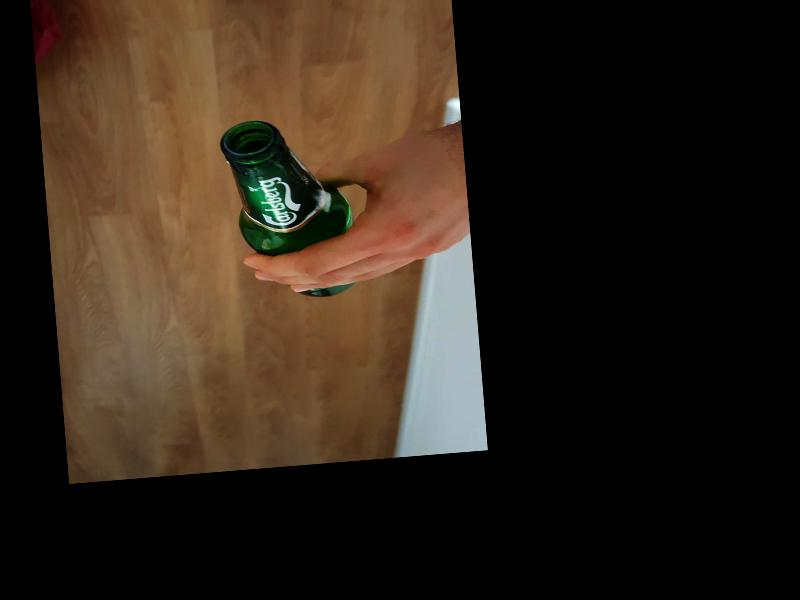Beer: (217, 114, 357, 303)
